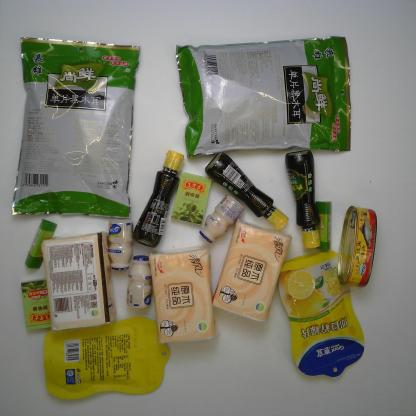Candy: (170, 171, 212, 226), (19, 278, 50, 334)
Canned Food: (337, 204, 379, 288)
Dried Food: (9, 35, 142, 221), (173, 34, 354, 160)
Dried Fruit: (278, 250, 367, 379), (42, 315, 172, 402)
Milk: (198, 193, 246, 245), (126, 254, 152, 310), (107, 216, 133, 272)
Seasoner: (204, 150, 290, 232), (132, 148, 186, 248), (284, 149, 322, 250)
Stationery: (23, 217, 59, 270), (316, 199, 333, 251)
Tissue: (211, 218, 292, 323), (40, 230, 118, 333), (148, 246, 218, 346)
